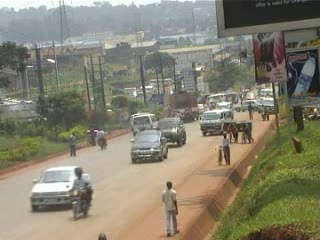Car: (27, 165, 90, 213), (128, 126, 171, 164), (152, 115, 188, 150), (230, 97, 264, 114), (241, 91, 258, 104), (195, 99, 204, 115)
Motorcycle: (66, 173, 93, 219), (95, 128, 110, 152)
